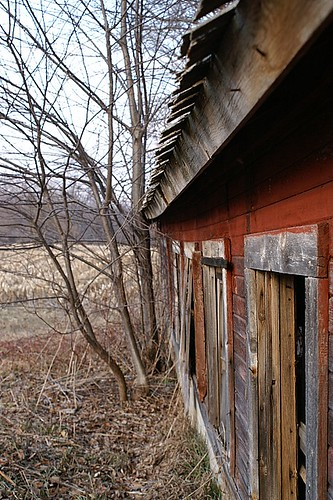building: (159, 1, 333, 500)
tree: (1, 1, 176, 403)
